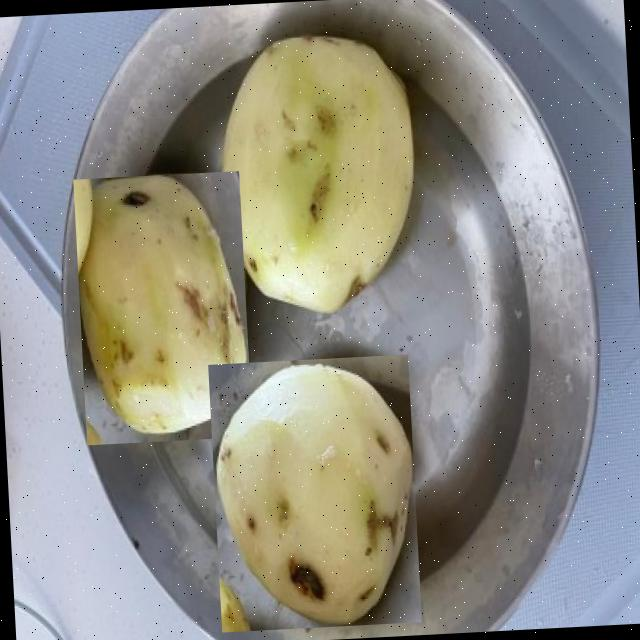Potato: (210, 28, 427, 320), (208, 354, 422, 632), (73, 170, 253, 444)
